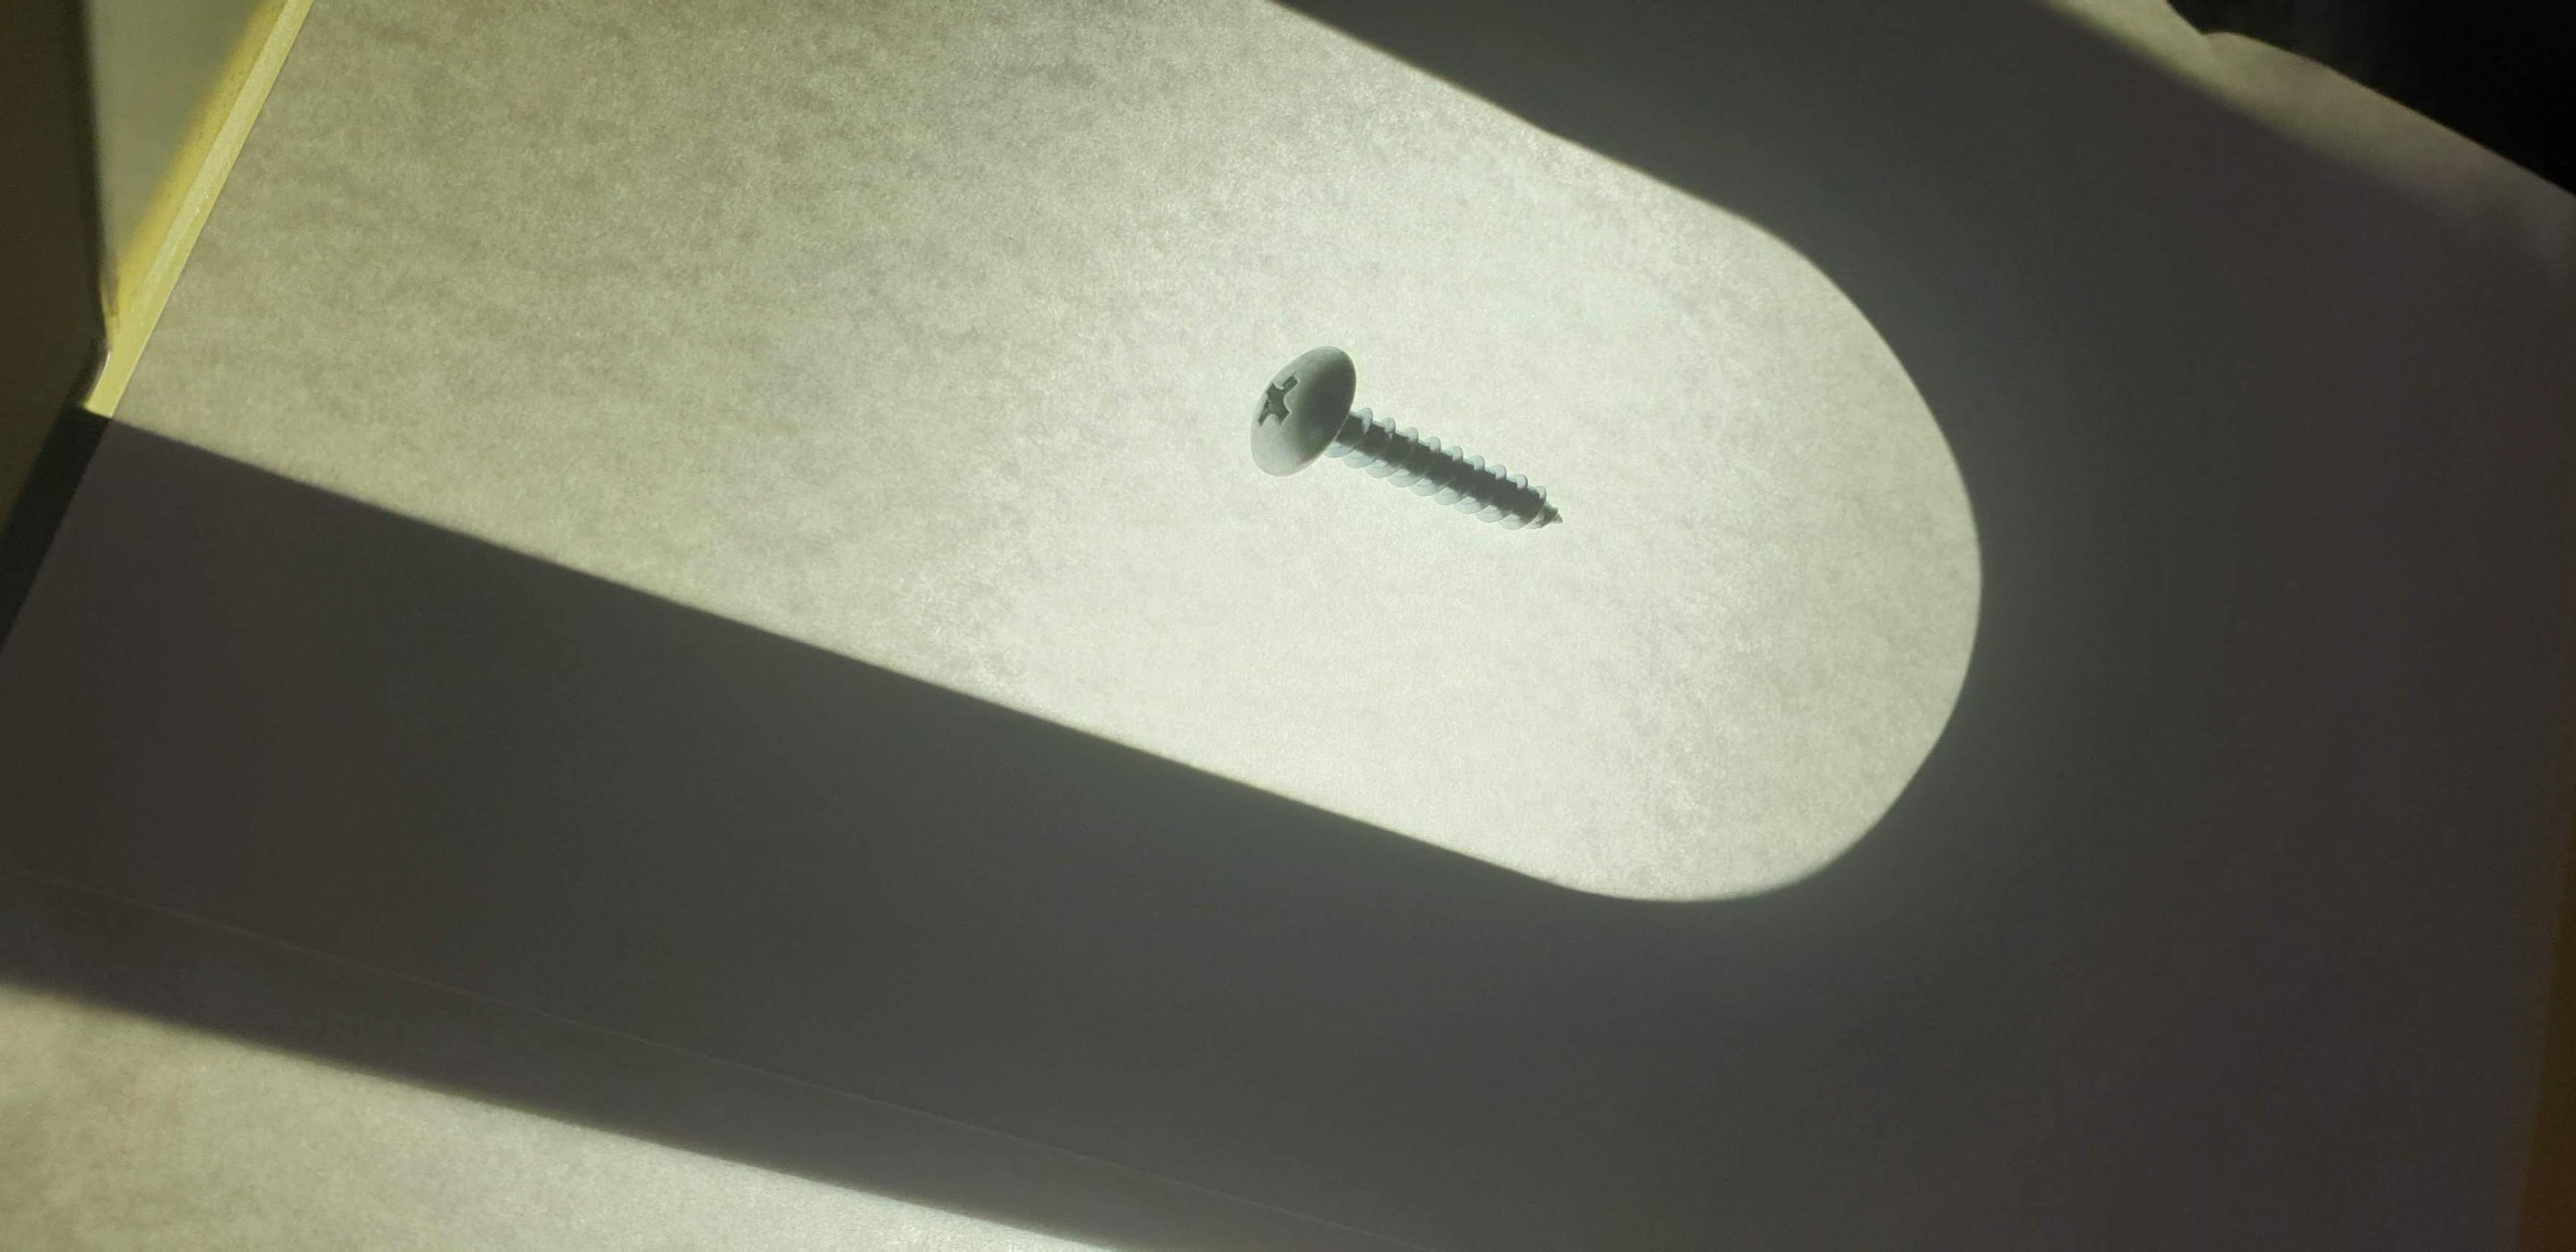S002: (1207, 306, 1600, 567)
